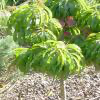Peach leaf: (41, 53, 52, 76), (15, 54, 28, 69), (89, 44, 99, 63), (73, 56, 82, 76), (62, 0, 71, 17), (17, 29, 25, 47), (58, 1, 65, 15), (26, 29, 31, 46), (13, 30, 19, 44), (87, 15, 92, 31), (69, 2, 74, 17)
